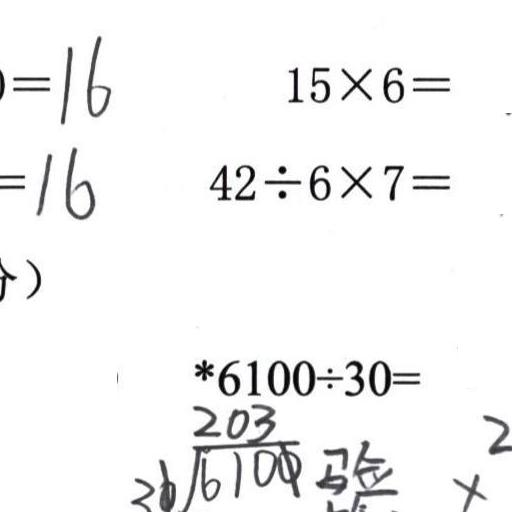ans: (52, 31, 112, 123), (29, 141, 95, 220)
